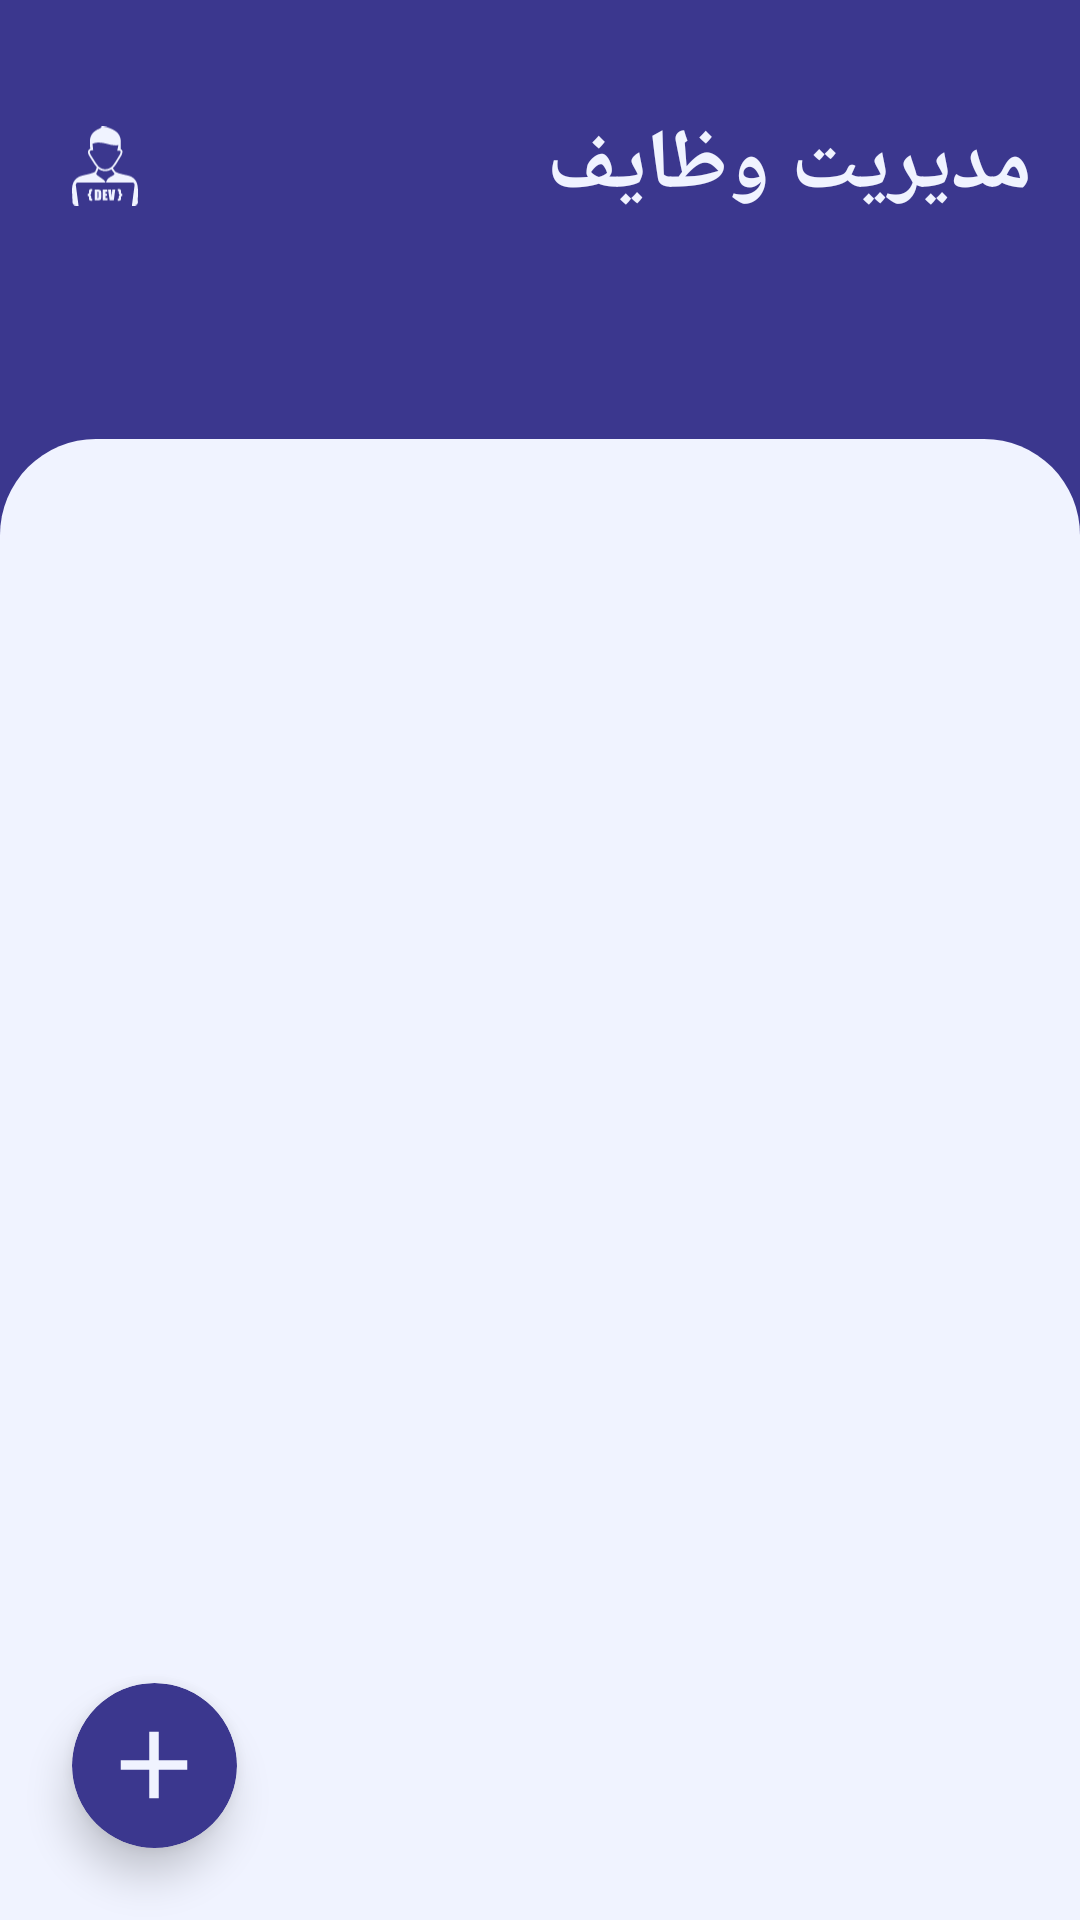

Icons on this 1080px×1920px Android screen, each with its box as (x1, y1, x2, y2):
add: (120, 1731, 188, 1799)
